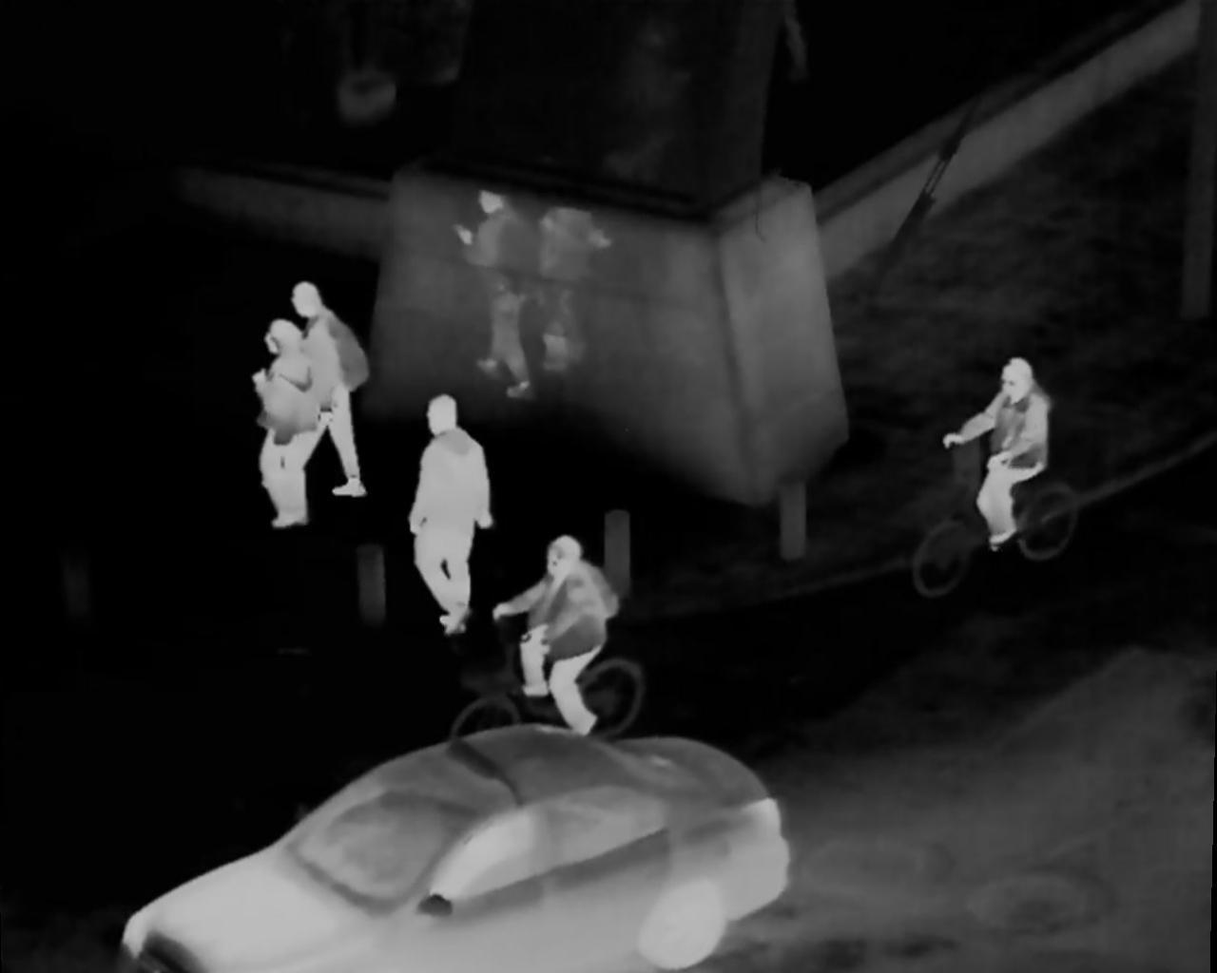person: (497, 539, 612, 734), (941, 353, 1048, 556), (407, 398, 480, 627), (291, 283, 369, 497), (246, 324, 314, 521)
